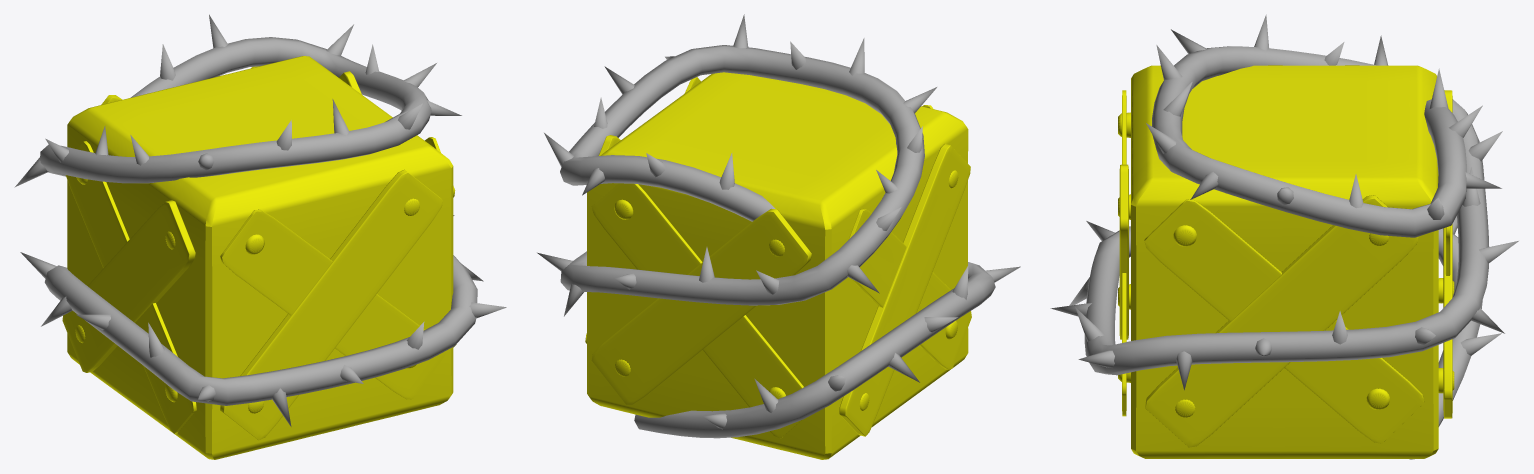
File: BoxVined.fbx
The picture shows the model from 3 angles, left to right: view 1: azimuth 30°, elevation 25°; view 2: azimuth 150°, elevation 25°; view 3: azimuth 270°, elevation 25°; orthographic projection. The views are drawn at different scales.
Parts seen in each view (by area): view 1: BoxVined; view 2: BoxVined; view 3: BoxVined.
Part boxes in pixels (x1,y1,x2,y2): BoxVined: (14,14,506,459); BoxVined: (537,14,1020,459); BoxVined: (1050,14,1518,459).
Bounding box in the file's own units: 128 × 111 × 131.
